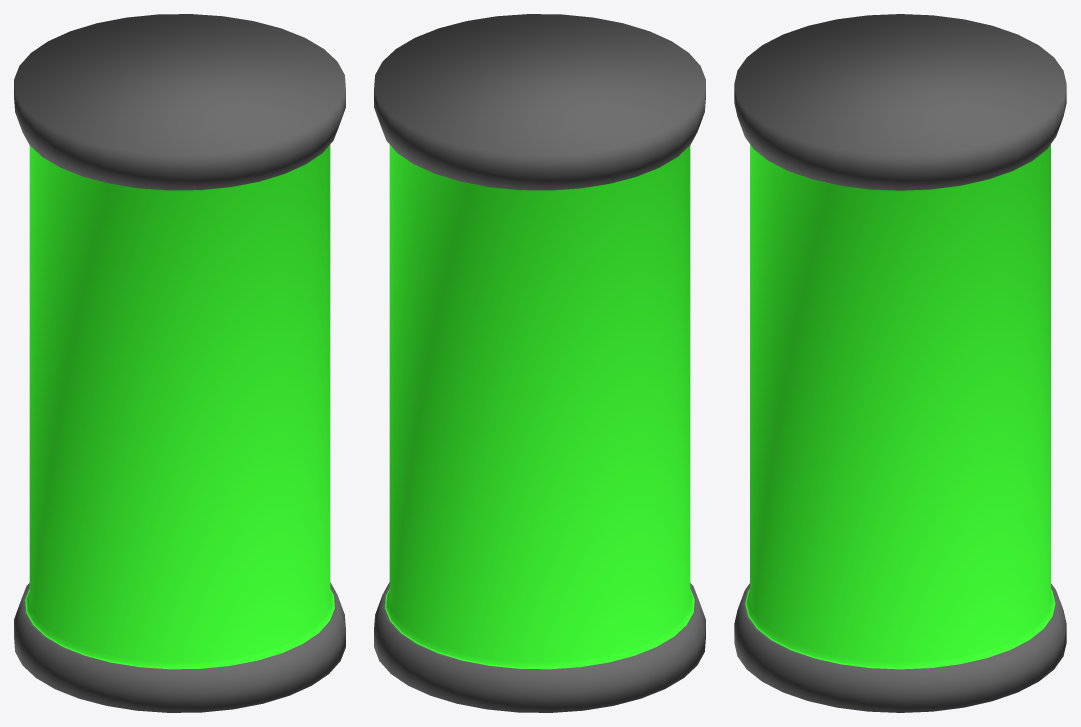
File: science-tube.glb
The picture shows the model from 3 angles, left to right: view 1: azimuth 30°, elevation 25°; view 2: azimuth 150°, elevation 25°; view 3: azimuth 270°, elevation 25°; orthographic projection.
Parts seen in each view (by area): view 1: Cylinder; view 2: Cylinder; view 3: Cylinder.
Boxes of the visible parts, x1=… form: Cylinder: x1=14, y1=14, x2=345, y2=712; Cylinder: x1=374, y1=14, x2=705, y2=712; Cylinder: x1=734, y1=14, x2=1066, y2=712.
Size of what is drawn, in the model's own units: 1.63 by 3.01 by 1.63.
